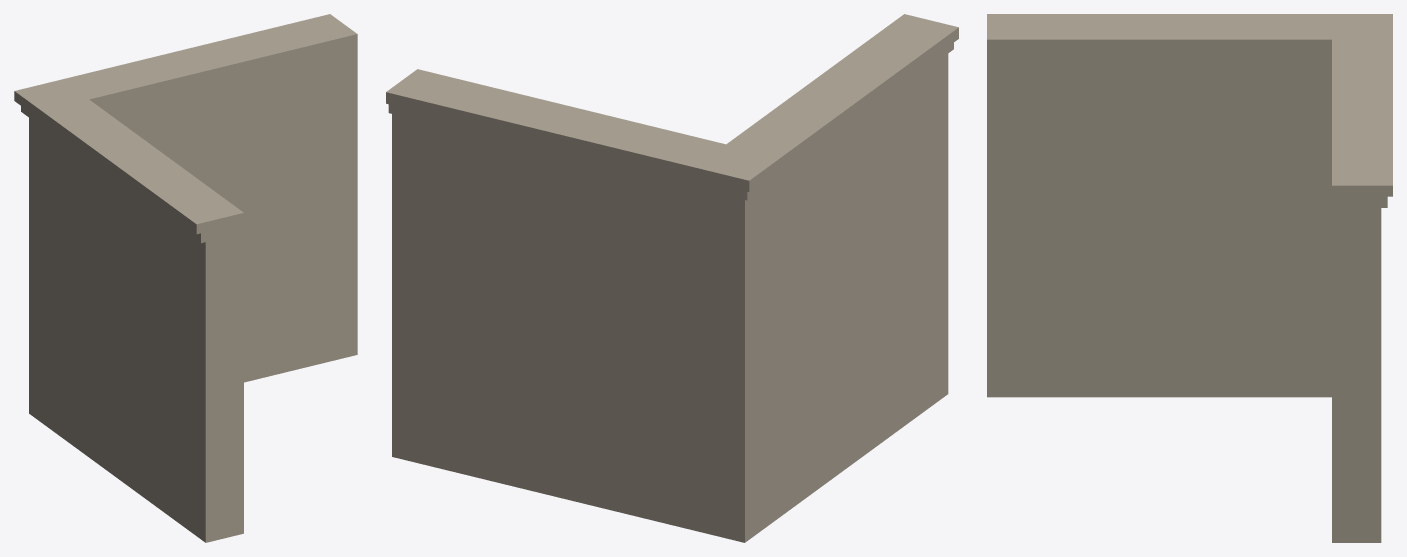
File: Village_Wall_Plaster_2m_Roof_Corner_A.fbx
3 views of the same model, side by side, from view 1: azimuth 30°, elevation 25°; view 2: azimuth 150°, elevation 25°; view 3: azimuth 270°, elevation 25° (orthographic). The views are drawn at different scales.
Visible parts, largest first — view 1: Village_Wall_2m_Roof_A.179; view 2: Village_Wall_2m_Roof_A.179; view 3: Village_Wall_2m_Roof_A.179.
Boxes of the visible parts, left/top/right/bottom form: Village_Wall_2m_Roof_A.179: left=14, top=14, right=357, bottom=542; Village_Wall_2m_Roof_A.179: left=386, top=14, right=958, bottom=542; Village_Wall_2m_Roof_A.179: left=987, top=14, right=1392, bottom=542.
Size of the model in its own units: 206 by 200 by 206.
